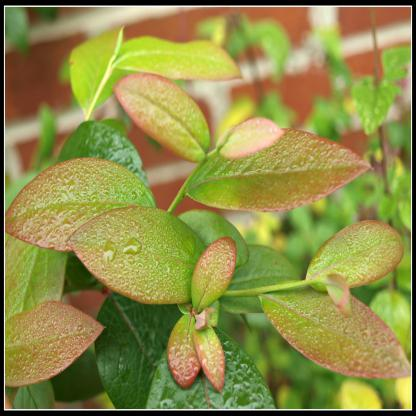blueberry leaf: (188, 126, 376, 218), (257, 279, 416, 386), (66, 202, 211, 312), (5, 162, 163, 255), (4, 297, 108, 389), (307, 218, 404, 290), (187, 229, 252, 306), (190, 315, 233, 395)
